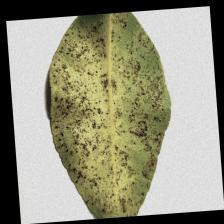canker: (64, 60, 153, 170)
